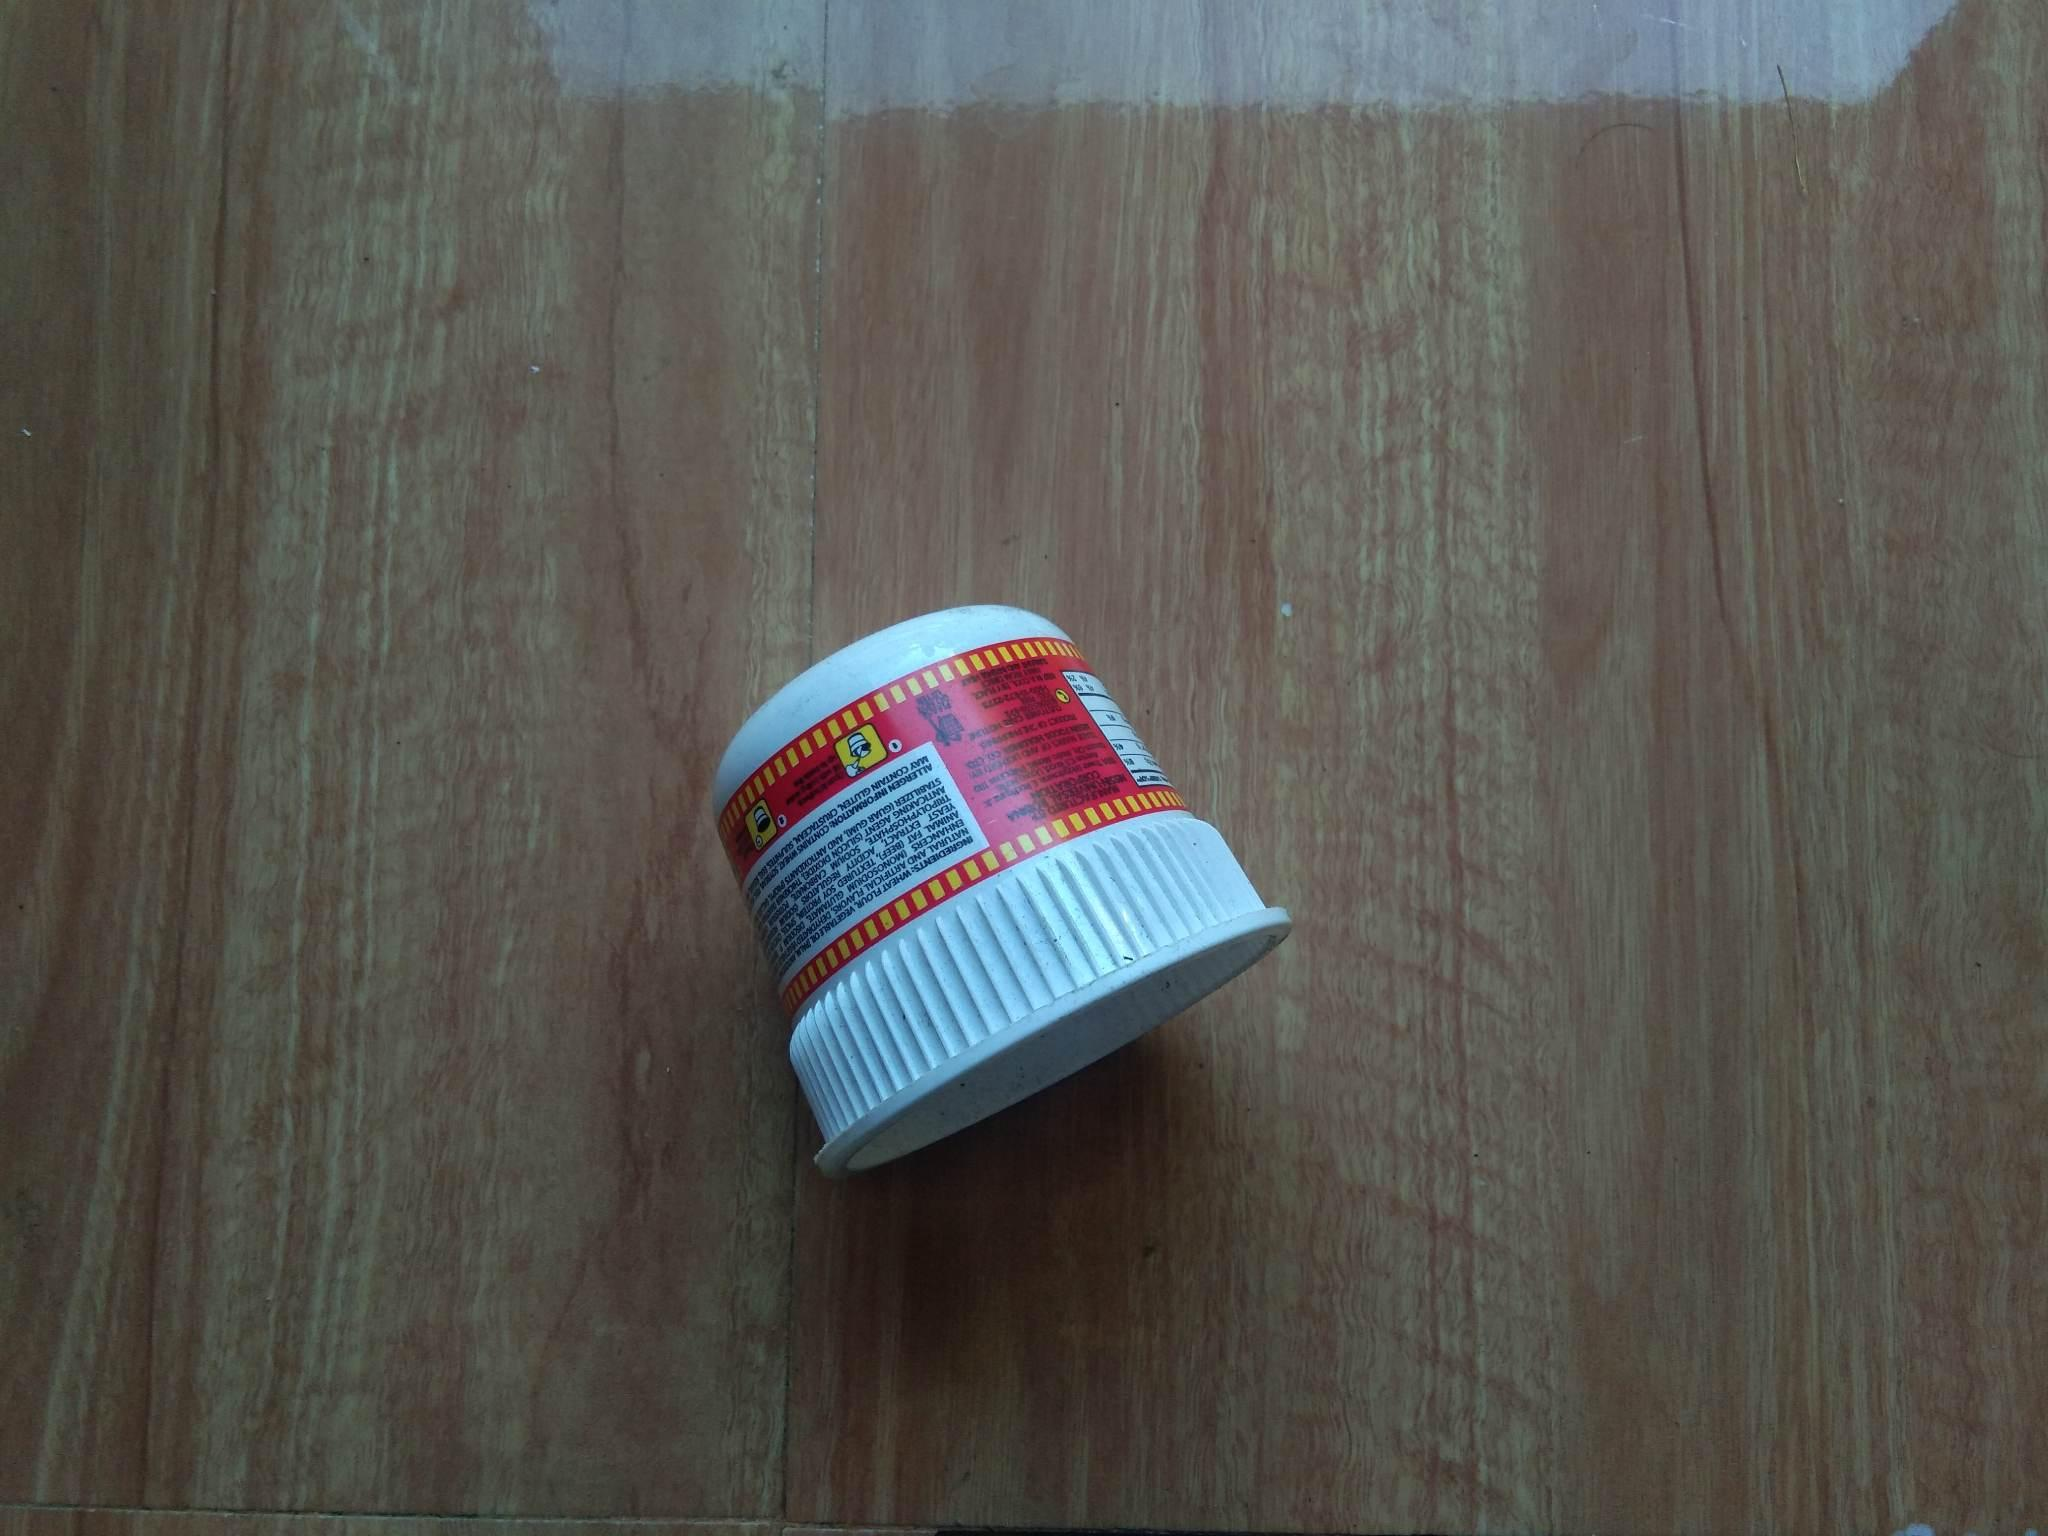plastic: (613, 600, 1342, 1184)
